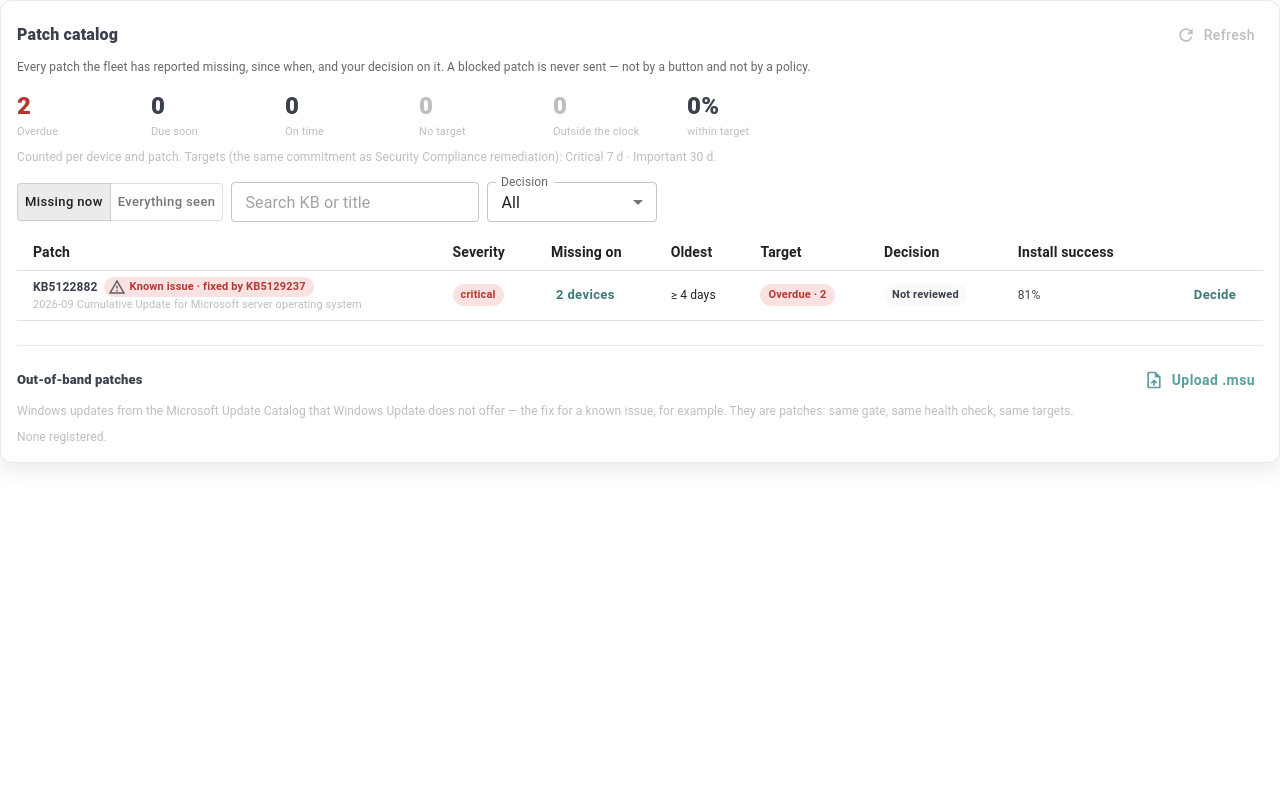
it: PatchCatalogPanel › lists the devices missing it, with the date as a floor
The width and height of the screenshot is (1280, 800).
Click the button "2 devices" at (585, 295), box [551,280,620,311]
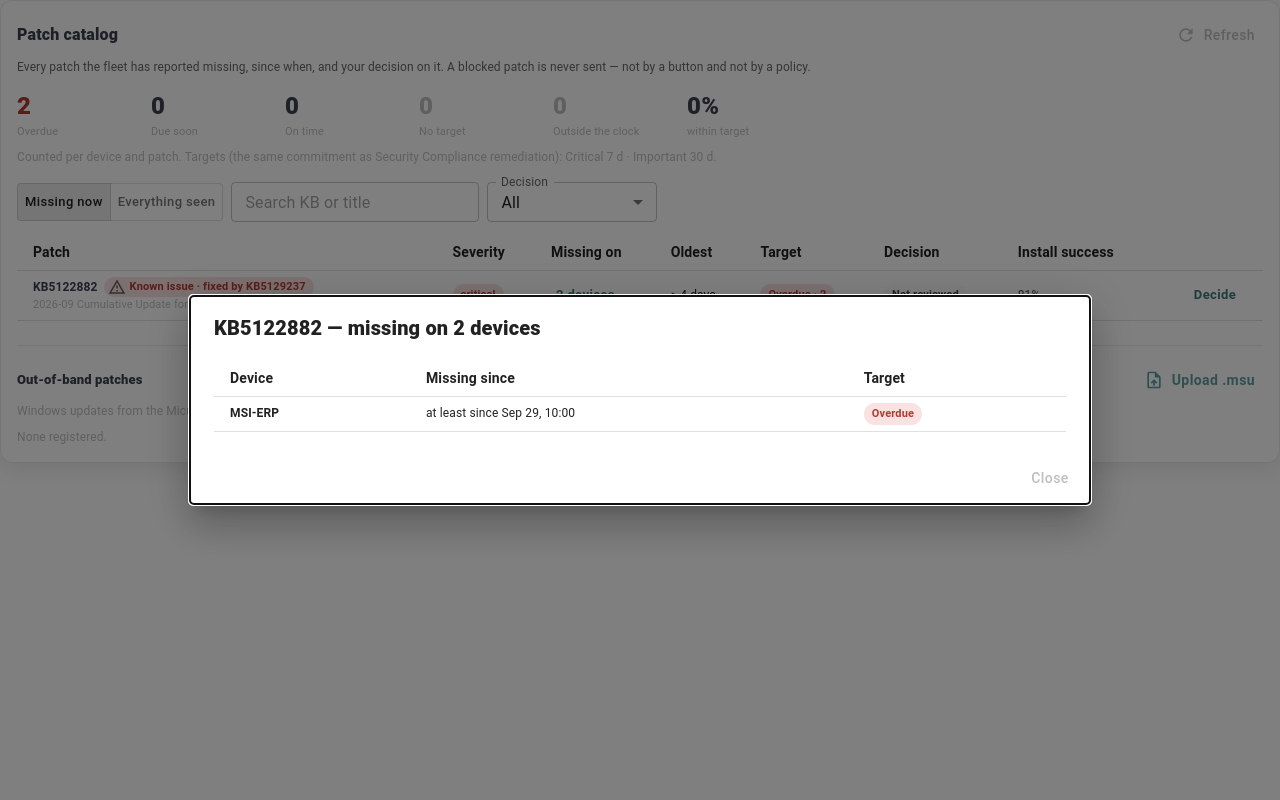
Check: the text "MSI-ERP" is shown, box [214,396,410,431]
Check: the text "at least since Sep 29, 10:00" is shown, box [410,396,848,431]
